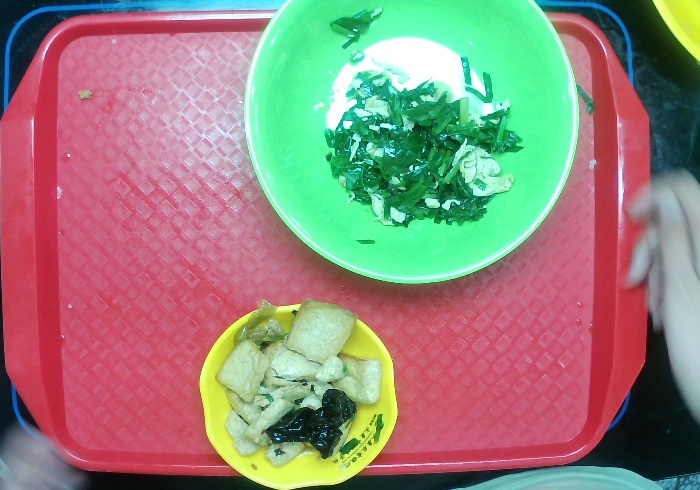YKMZ-Huang_Se_Ao_Bian_Wan: (197, 299, 399, 490)
YKMZ-Lv_Se_Tang_Wan: (241, 1, 581, 288)
